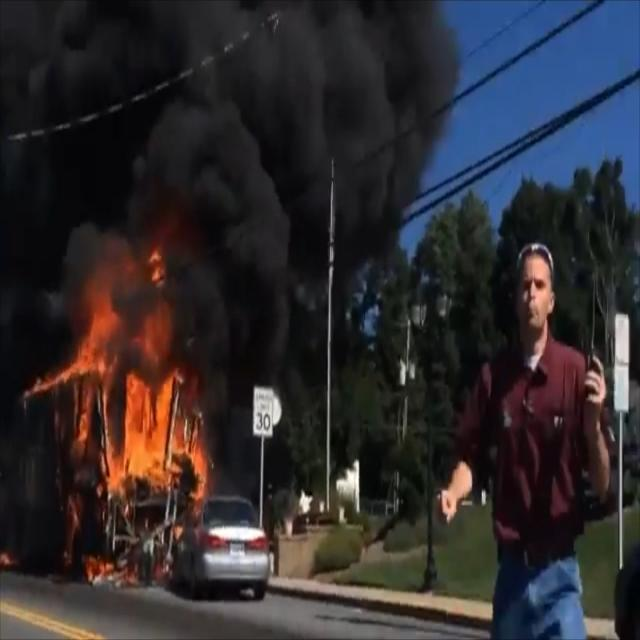fire: (23, 246, 198, 584)
